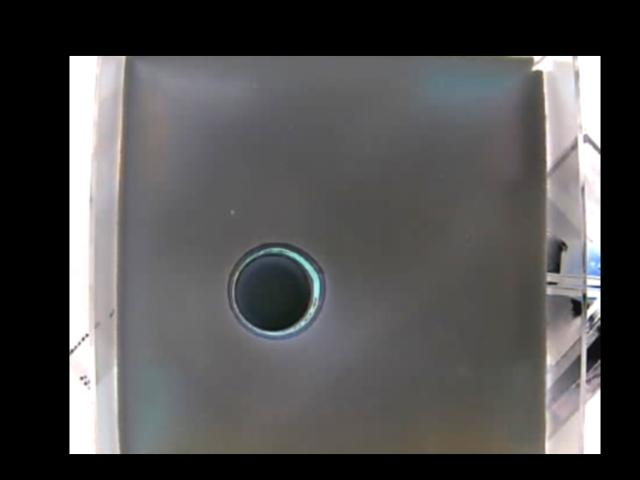Cup: (226, 236, 325, 337)
